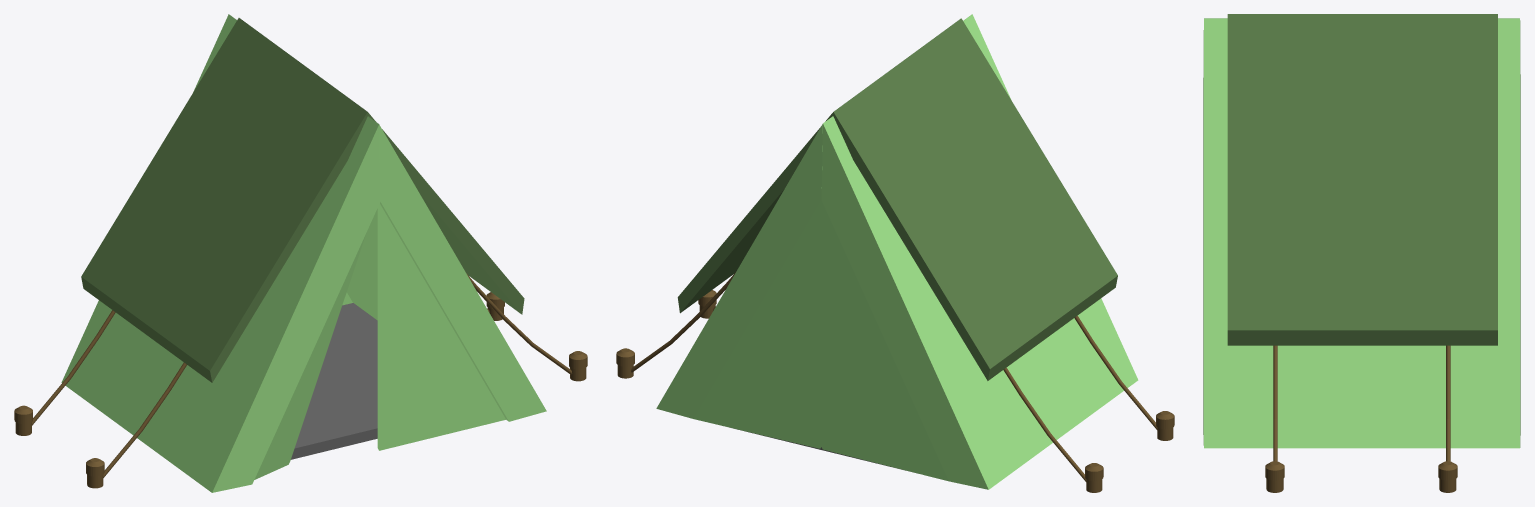
File: Green Tent.glb
The picture shows the model from 3 angles, left to right: view 1: azimuth 30°, elevation 25°; view 2: azimuth 150°, elevation 25°; view 3: azimuth 270°, elevation 25°; orthographic projection. The views are drawn at different scales.
Parts seen in each view (by area): view 1: Cube, Cube.001, Plane, Cylinder.003, Cylinder.004, Cylinder.010; view 2: Cube, Cube.001, Cylinder.004, Cylinder.003, Cylinder.009; view 3: Cube.001, Cube, Cylinder.009, Cylinder.010, Cylinder.008.
Boxes of the visible parts, <box> form: Cube: <box>61,14,546,492</box>; Cube.001: <box>81,18,524,382</box>; Plane: <box>291,303,377,459</box>; Cylinder.003: <box>103,362,186,477</box>; Cylinder.004: <box>32,310,115,425</box>; Cylinder.010: <box>466,273,572,374</box>; Cube: <box>656,14,1138,489</box>; Cube.001: <box>677,18,1117,380</box>; Cylinder.004: <box>1003,367,1086,481</box>; Cylinder.003: <box>1074,316,1157,429</box>; Cylinder.009: <box>631,272,735,372</box>; Cube.001: <box>1227,14,1497,345</box>; Cube: <box>1203,18,1520,448</box>; Cylinder.009: <box>1446,345,1450,461</box>; Cylinder.010: <box>1273,345,1277,461</box>; Cylinder.008: <box>1438,461,1457,480</box>.
Bounding box in the file's own units: 0.4899 × 0.3255 × 0.2629.
